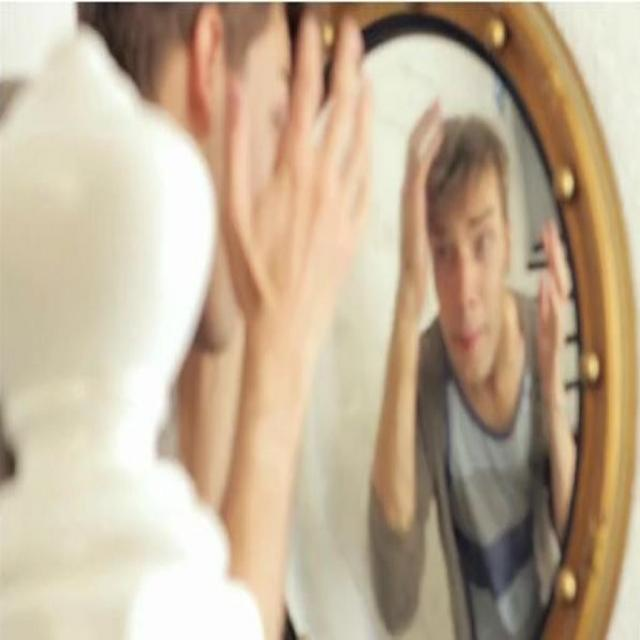nomask: (431, 186, 509, 385)
